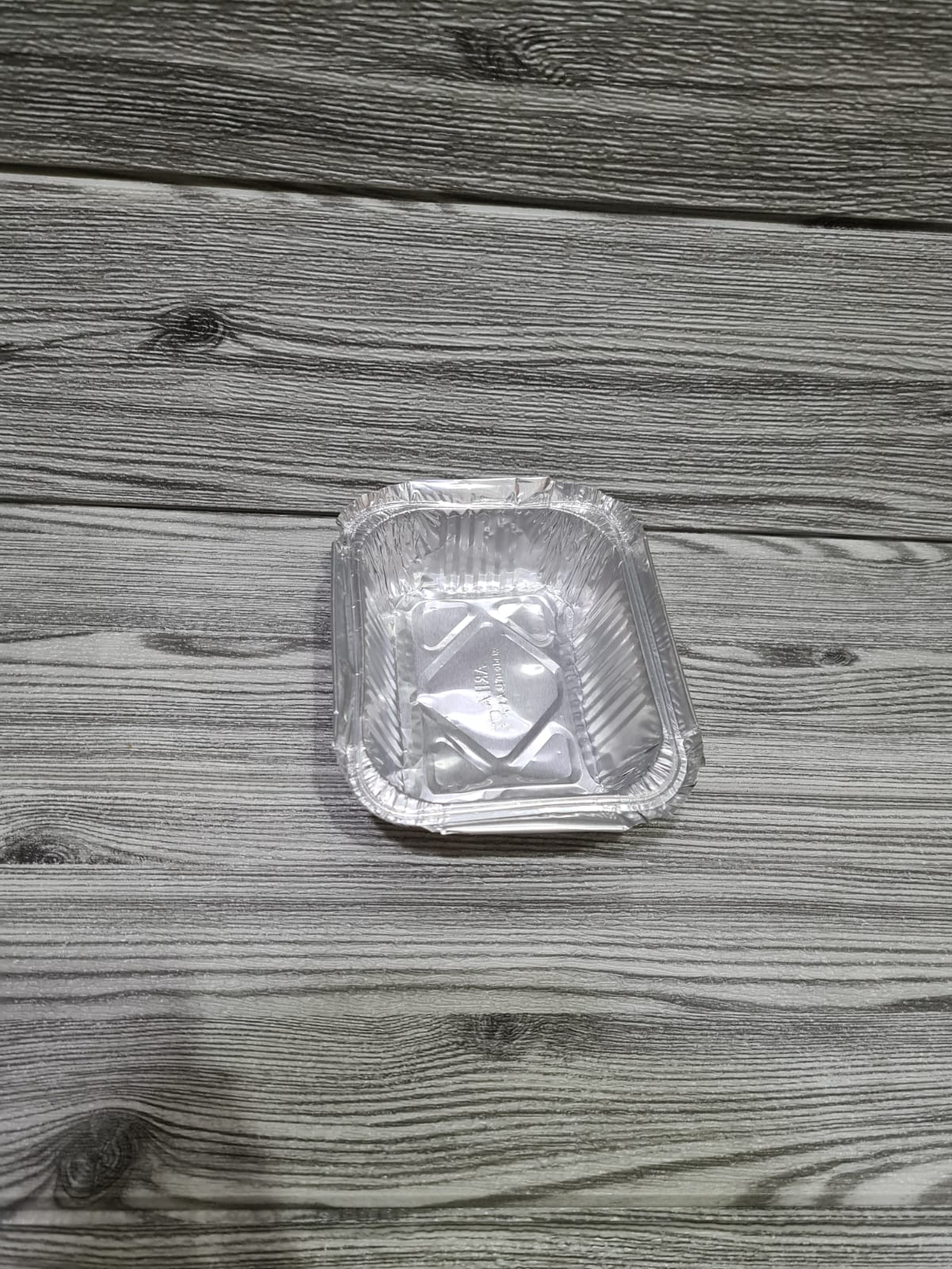Metal: (310, 477, 711, 844)
